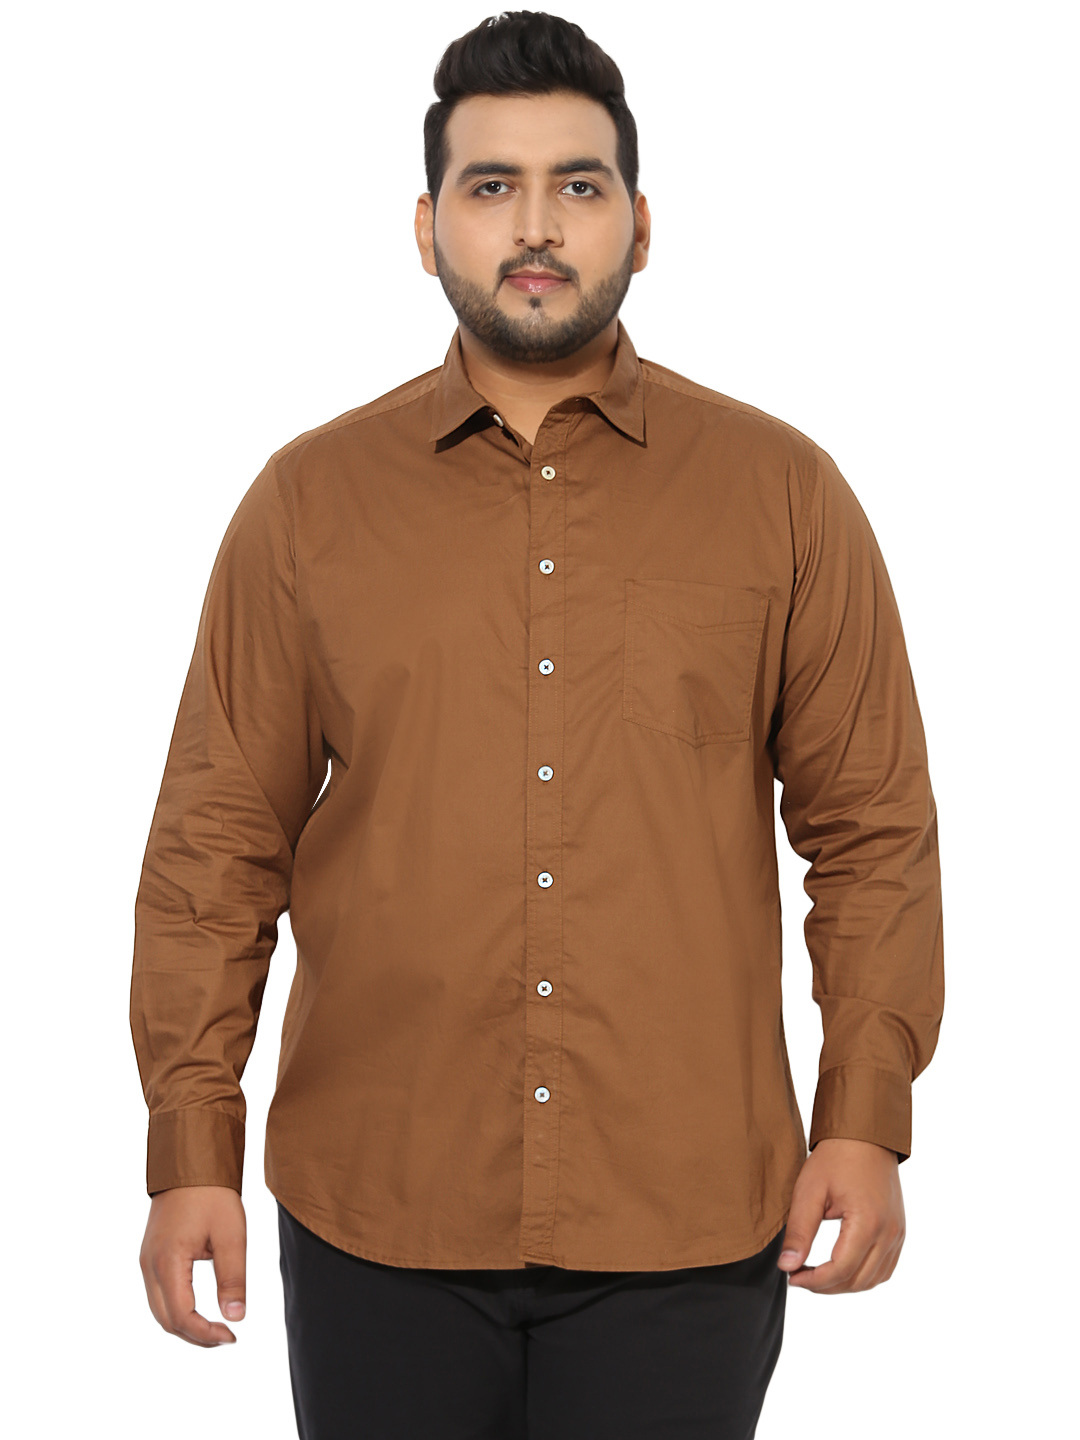Shirt: (109, 370, 1080, 1284)
